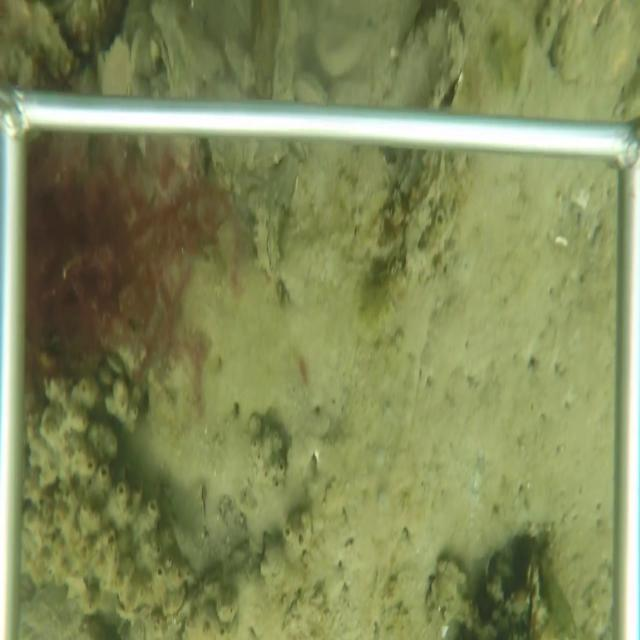Oyster-Closed: (252, 199, 285, 279)
Oyster-Open: (431, 15, 469, 109)
